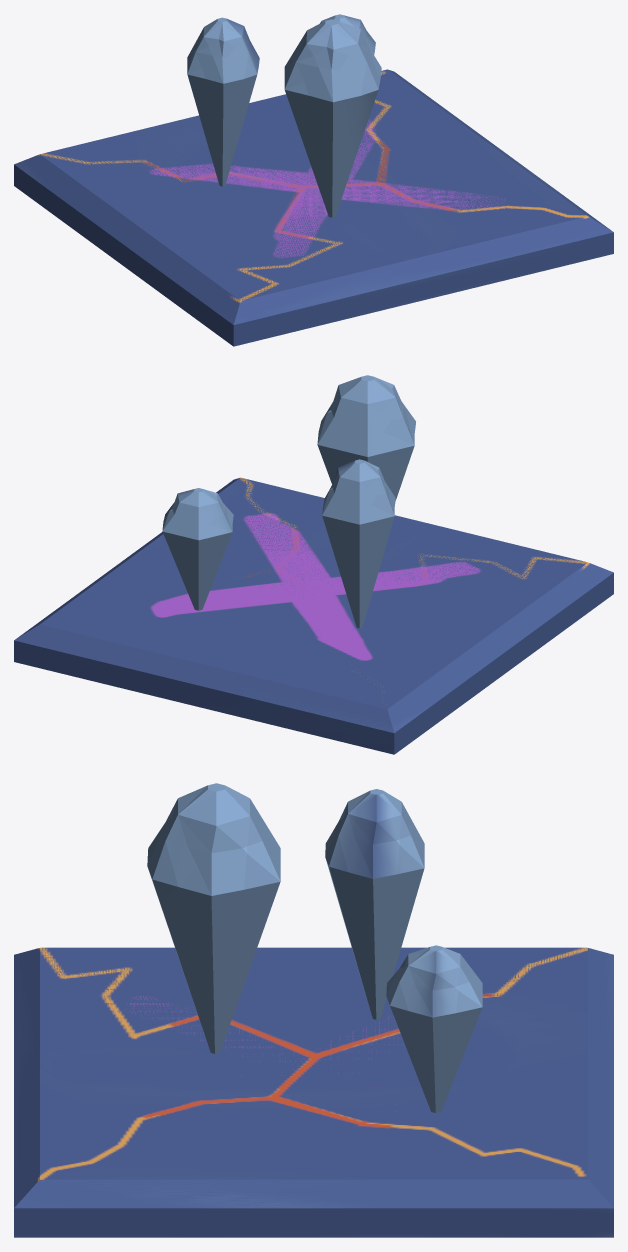
Rendered from 3D_trap_ice_stalagmites.fbx.
3 views of the same model, one above another, from view 1: azimuth 30°, elevation 25°; view 2: azimuth 150°, elevation 25°; view 3: azimuth 270°, elevation 25° (orthographic). The views are drawn at different scales.
Parts seen in each view (by area): view 1: SM_trap_ice_stalagmite_fracture1, SM_trap_stalagmite_base1, SM_trap_ice_stalagmite2; view 2: SM_trap_stalagmite_base1, SM_trap_ice_stalagmite_fracture1, SM_trap_ice_stalagmite2; view 3: SM_trap_ice_stalagmite_fracture1, SM_trap_ice_stalagmite2, SM_trap_stalagmite_base1.
Part boxes in pixels (<box>): SM_trap_ice_stalagmite_fracture1: <box>14,69,613,346</box>; SM_trap_stalagmite_base1: <box>18,69,565,312</box>; SM_trap_ice_stalagmite2: <box>187,14,381,217</box>; SM_trap_stalagmite_base1: <box>14,478,608,731</box>; SM_trap_ice_stalagmite_fracture1: <box>14,477,613,754</box>; SM_trap_ice_stalagmite2: <box>162,375,415,628</box>; SM_trap_ice_stalagmite_fracture1: <box>14,947,613,1237</box>; SM_trap_ice_stalagmite2: <box>147,783,482,1112</box>; SM_trap_stalagmite_base1: <box>15,947,613,1208</box>.
Bounding box in the file's own units: 100 × 57.29 × 100.
Materials: 2 (2 with a texture image).
